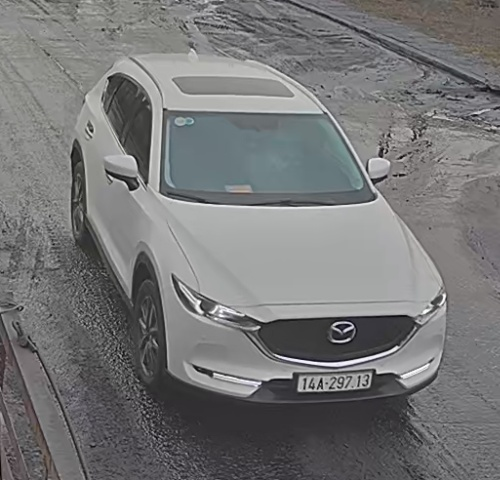vehicle plate: (295, 364, 381, 394)
